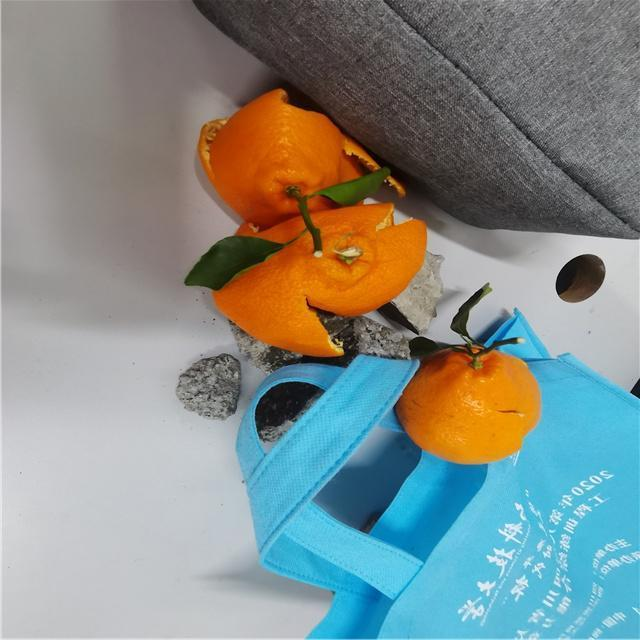orange peel: (107, 201, 459, 382), (161, 81, 425, 235), (393, 272, 556, 494)
